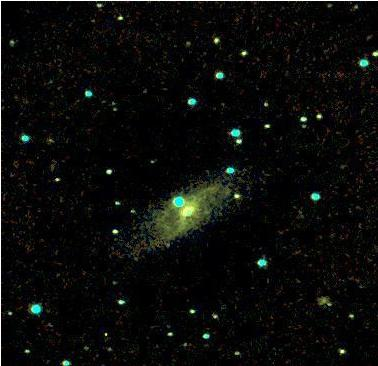star: (306, 286, 336, 316)
